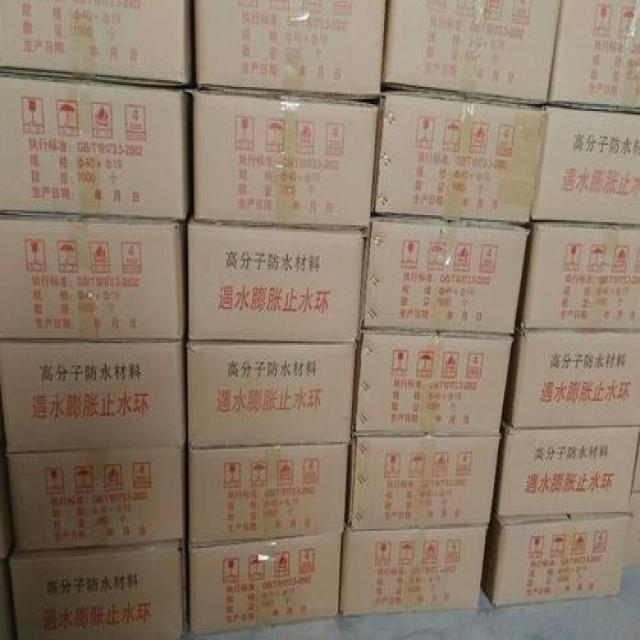box: (0, 75, 193, 219), (191, 91, 378, 230), (374, 89, 547, 224), (186, 217, 369, 341), (1, 340, 186, 452), (361, 213, 528, 334), (194, 0, 387, 99), (7, 450, 185, 553), (383, 1, 561, 103), (187, 341, 355, 446), (0, 1, 192, 90), (11, 541, 186, 638), (188, 444, 349, 543), (354, 335, 510, 435), (188, 532, 342, 633), (502, 319, 639, 428), (491, 416, 639, 513), (346, 435, 498, 529), (482, 509, 631, 604), (340, 523, 487, 617), (517, 219, 639, 331), (531, 109, 639, 225), (547, 2, 639, 109), (624, 492, 639, 569)
